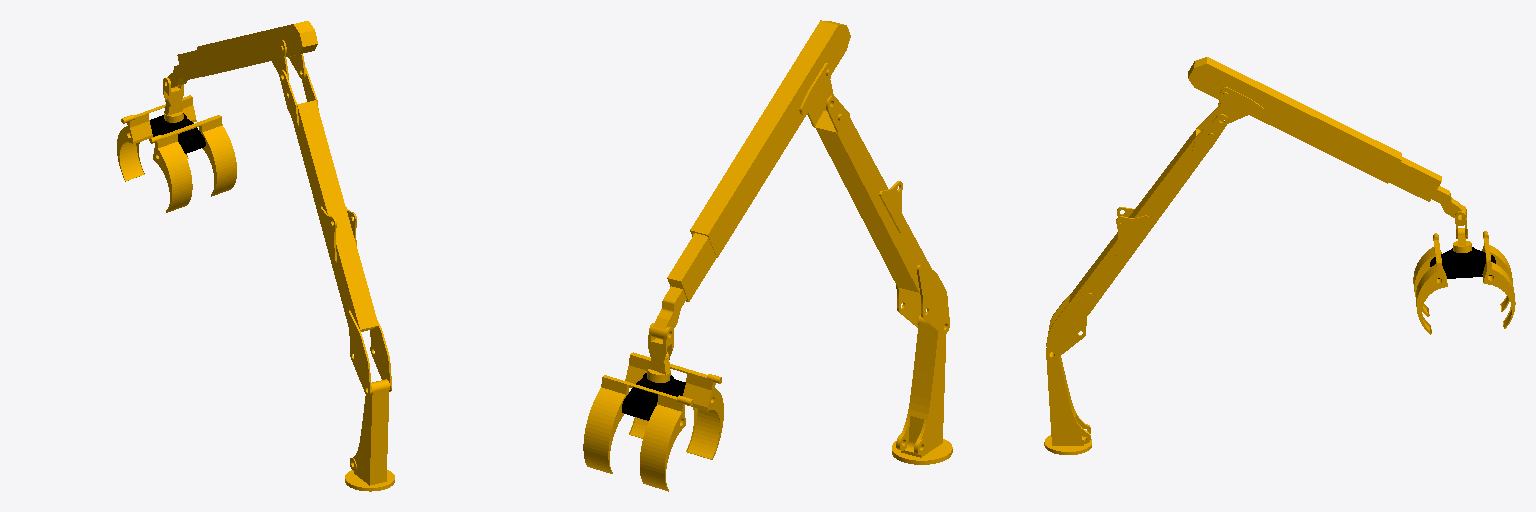
--- What the picture shows (computed from the rendered views, not written in the file) ---
Views: 3 orthographic renders of the robot side by side, from view 1: azimuth 30°, elevation 25°; view 2: azimuth 150°, elevation 25°; view 3: azimuth 270°, elevation 25°.
Model onshape with 18 links and 17 joints (8 revolute, 1 prismatic, 8 fixed), rooted at base_link, posed all joints at 0.
Links seen in each view (by area): view 1: cranearm, extension_arm, cranepillar, grappler_1, grapplel_1, grapplebody, extension, grappler_2_2, grappler_2; view 2: extension_arm, cranearm, cranepillar, grapplel_1, extension, grappler_1, grapplebody, grappler_3, grapplel_2_2, grapplel_2, intermediatehookjnt, grappler_2; view 3: extension_arm, cranearm, cranepillar, extension, grapplebody, grappler_1, grapplel_1.
Boxes of the visible links, bbox=[...] form: cranearm: bbox=[279, 67, 391, 396]; extension_arm: bbox=[197, 21, 317, 79]; cranepillar: bbox=[345, 379, 394, 491]; grappler_1: bbox=[149, 115, 234, 177]; grapplel_1: bbox=[118, 95, 196, 143]; grapplebody: bbox=[150, 113, 205, 153]; extension: bbox=[168, 50, 202, 87]; grappler_2_2: bbox=[208, 154, 236, 182]; grappler_2: bbox=[164, 170, 192, 198]; extension_arm: bbox=[690, 20, 850, 257]; cranearm: bbox=[807, 95, 949, 334]; cranepillar: bbox=[892, 315, 952, 464]; grapplel_1: bbox=[587, 375, 693, 446]; extension: bbox=[652, 233, 715, 339]; grappler_1: bbox=[625, 352, 723, 411]; grapplebody: bbox=[622, 373, 685, 420]; grappler_3: bbox=[686, 425, 721, 459]; grapplel_2_2: bbox=[583, 423, 617, 456]; grapplel_2: bbox=[640, 440, 673, 473]; intermediatehookjnt: bbox=[648, 323, 673, 365]; grappler_2: bbox=[693, 406, 723, 433]; extension_arm: bbox=[1188, 57, 1401, 183]; cranearm: bbox=[1046, 108, 1228, 360]; cranepillar: bbox=[1044, 348, 1091, 454]; extension: bbox=[1389, 157, 1466, 218]; grapplebody: bbox=[1430, 247, 1495, 278]; grappler_1: bbox=[1415, 233, 1447, 294]; grapplel_1: bbox=[1482, 231, 1512, 289].
Bounding box of the posed robot: 0.9602 × 5.11 × 4.63 m (x, y, z).
17 mesh visuals loaded from 14 distinct referenced files (13 binary STL); not drawn: 1 (reference not matched to a file when rendering).

URDF robot description (onshape):
<robot name="onshape">
<link name="base_link">
<visual>
<origin xyz="0 0 0" rpy="0 -0 0" />
<geometry>
<mesh filename="meshes/base_link.stl"/>
</geometry>
<material name="base_link_material">
<color rgba="0.19607843137254901689 0.43921568627450979783 0.078431372549019606755 1.0"/>
</material>
</visual>
<collision>
<origin xyz="0 0 0" rpy="0 -0 0" />
<geometry>
<mesh filename="meshes/base_link.stl"/>
</geometry>
</collision>
<inertial>
<origin xyz="-0.0038912060641234204675 0.94417835578650088912 0.70159558953869916031" rpy="0 0 0"/>
<mass value="1499.9999999999993179" />
<inertia ixx="3977.710599158952391" ixy="2.4359446062355916141"  ixz="-0.23812520616698054643" iyy="879.41162393756735582" iyz="164.77461570684388903" izz="4496.6843394325978807" />
</inertial>
</link>

<link name="cranepillar">
<visual>
<origin xyz="6.9388939039072283776e-18 -1.9749999999999998668 1.8000000000000002665" rpy="3.141592653589793116 1.6940658945086006781e-21 2.516552257085389921e-18" />
<geometry>
<mesh filename="meshes/cranepillar.stl"/>
</geometry>
<material name="cranepillar_material">
<color rgba="0.98039215686274505668 0.71372549019607844922 0.0039215686274509803377 1.0"/>
</material>
</visual>
<collision>
<origin xyz="6.9388939039072283776e-18 -1.9749999999999998668 1.8000000000000002665" rpy="3.141592653589793116 1.6940658945086006781e-21 2.516552257085389921e-18" />
<geometry>
<mesh filename="meshes/cranepillar.stl"/>
</geometry>
</collision>
<inertial>
<origin xyz="6.5177737211082862288e-08 0.069996065189212197666 -0.40871146584034484528" rpy="0 0 0"/>
<mass value="158.26819918446105362" />
<inertia ixx="20.304254714215375088" ixy="3.9605699781677006395e-06"  ixz="-8.1723973261701671507e-07" iyy="19.504224403354090356" iyz="3.0542376148195309327" izz="2.5286420750194498197" />
</inertial>
</link>

<link name="cranearm">
<visual>
<origin xyz="2.1631691341646699378 2.9071014878752601263 0.10714734974687092905" rpy="1.57079632679489678 1.5707963267948961139 0" />
<geometry>
<mesh filename="meshes/cranearm.stl"/>
</geometry>
<material name="cranearm_material">
<color rgba="0.98039215686274505668 0.71372549019607844922 0.0039215686274509803377 1.0"/>
</material>
</visual>
<collision>
<origin xyz="2.1631691341646699378 2.9071014878752601263 0.10714734974687092905" rpy="1.57079632679489678 1.5707963267948961139 0" />
<geometry>
<mesh filename="meshes/cranearm.stl"/>
</geometry>
</collision>
<inertial>
<origin xyz="1.4710758781849475607 -0.83447497357367239612 0.11000015269846499799" rpy="0 0 0"/>
<mass value="171.36007144775499" />
<inertia ixx="31.174403809260475384" ixy="53.72154790670983715"  ixz="-2.3471090249550919692e-06" iyy="103.78227622883770209" iyz="2.968750295156902758e-06" izz="132.11938151457613344" />
</inertial>
</link>

<link name="extension_arm">
<visual>
<origin xyz="-0.088447174187276322854 -5.3839193952782498087 -0.06714734974682075308" rpy="-1.570796326794896558 -1.5707963267948796826 0" />
<geometry>
<mesh filename="meshes/extension_arm.stl"/>
</geometry>
<material name="extension_arm_material">
<color rgba="0.98039215686274505668 0.71372549019607844922 0.0039215686274509803377 1.0"/>
</material>
</visual>
<collision>
<origin xyz="-0.088447174187276322854 -5.3839193952782498087 -0.06714734974682075308" rpy="-1.570796326794896558 -1.5707963267948796826 0" />
<geometry>
<mesh filename="meshes/extension_arm.stl"/>
</geometry>
</collision>
<inertial>
<origin xyz="0.71945517939019365539 0.12523230339912849729 -0.10999999999999975075" rpy="0 0 0"/>
<mass value="132.70502483158344376" />
<inertia ixx="8.0714226307109129266" ixy="18.156198033664058045"  ixz="1.1028622219671950734e-14" iyy="63.582628627999859816" iyz="2.9983655832555437732e-14" izz="70.212133412086018325" />
</inertial>
</link>

<link name="extension">
<visual>
<origin xyz="0.097852650417088363199 5.3847096770111528841 1.5927817167852027502" rpy="1.8759826062349289622 -5.9213930349191567547e-15 1.3417001884508113519e-18" />
<geometry>
<mesh filename="meshes/extension.stl"/>
</geometry>
<material name="extension_material">
<color rgba="0.98039215686274505668 0.71372549019607844922 0.0039215686274509803377 1.0"/>
</material>
</visual>
<collision>
<origin xyz="0.097852650417088363199 5.3847096770111528841 1.5927817167852027502" rpy="1.8759826062349289622 -5.9213930349191567547e-15 1.3417001884508113519e-18" />
<geometry>
<mesh filename="meshes/extension.stl"/>
</geometry>
</collision>
<inertial>
<origin xyz="0.055000000489328113029 -0.11308667092188519343 1.1835917326395066773" rpy="0 0 0"/>
<mass value="74.483829935135759115" />
<inertia ixx="35.990982829721396286" ixy="2.8883683335390858708e-10"  ixz="4.53329415410387902e-09" iyy="35.493371181524160818" iyz="-0.96498947282822733484" izz="0.92591432257179961951" />
</inertial>
</link>

<link name="intermediatehookjnt">
<visual>
<origin xyz="1.1629408158115603911 -1.6924602990154093973 0.059999999999999990841" rpy="-1.570796326794896558 -1.570796326794896558 0" />
<geometry>
<mesh filename="meshes/intermediatehookjnt.stl"/>
</geometry>
<material name="intermediatehookjnt_material">
<color rgba="0.98039215686274505668 0.71372549019607844922 0.0039215686274509803377 1.0"/>
</material>
</visual>
<collision>
<origin xyz="1.1629408158115603911 -1.6924602990154093973 0.059999999999999990841" rpy="-1.570796326794896558 -1.570796326794896558 0" />
<geometry>
<mesh filename="meshes/intermediatehookjnt.stl"/>
</geometry>
</collision>
<inertial>
<origin xyz="7.2130032391370946243e-08 -0.1215916708469393509 0.059999999999999928391" rpy="0 0 0"/>
<mass value="6.6927523972674238806" />
<inertia ixx="0.072021619002840306378" ixy="2.6246446781931340384e-08"  ixz="-3.813379976753245862e-19" iyy="0.032102433616367866132" iyz="-6.769896028265984685e-21" izz="0.063250708421585463692" />
</inertial>
</link>

<link name="grapplehook">
<visual>
<origin xyz="1.1102230246251565404e-16 1.4599999999999995204 1.1229409087543604784" rpy="1.570796326794896558 -1.7347234759768070944e-18 0" />
<geometry>
<mesh filename="meshes/grapplehook.stl"/>
</geometry>
<material name="grapplehook_material">
<color rgba="0.98039215686274505668 0.71372549019607844922 0.0039215686274509803377 1.0"/>
</material>
</visual>
<collision>
<origin xyz="1.1102230246251565404e-16 1.4599999999999995204 1.1229409087543604784" rpy="1.570796326794896558 -1.7347234759768070944e-18 0" />
<geometry>
<mesh filename="meshes/grapplehook.stl"/>
</geometry>
</collision>
<inertial>
<origin xyz="9.6779365295442961279e-17 0.11889435836171992344 -0.039999999999999369393" rpy="0 0 0"/>
<mass value="11.69137300060207707" />
<inertia ixx="0.071283575399172696696" ixy="6.2153568335433644892e-19"  ixz="2.2920506233706871967e-20" iyy="0.044786365951232892657" iyz="0" izz="0.077427737510019634115" />
</inertial>
</link>

<link name="grapplebody">
<visual>
<origin xyz="0.002852650253129418445 -4.2941082490610078537 0.31050192853763469714" rpy="-0.83507352101469434213 8.8123952579621800396e-16 1.7347234759768070944e-18" />
<geometry>
<mesh filename="meshes/grapplebody.stl"/>
</geometry>
<material name="grapplebody_material">
<color rgba="0 0 0 1.0"/>
</material>
</visual>
<collision>
<origin xyz="0.002852650253129418445 -4.2941082490610078537 0.31050192853763469714" rpy="-0.83507352101469434213 8.8123952579621800396e-16 1.7347234759768070944e-18" />
<geometry>
<mesh filename="meshes/grapplebody.stl"/>
</geometry>
</collision>
<inertial>
<origin xyz="-0.0046191934757198547384 -8.4376949871511897072e-15 -0.14258886664155800972" rpy="0 0 0"/>
<mass value="100.00000000000002842" />
<inertia ixx="2.2032827057151145311" ixy="3.0196331546328281092e-14"  ixz="-0.01440316534977603008" iyy="5.1544932520305346557" iyz="-1.5987211554602254182e-14" izz="5.9229805801947446042" />
</inertial>
</link>

<link name="grappler_1">
<visual>
<origin xyz="0.32285265025312614995 3.4005112229779843602 3.4245452734591577126" rpy="-3.1412275799297373347 -4.4495657158805101972e-16 -6.9388939039072283776e-18" />
<geometry>
<mesh filename="meshes/grappler_1.stl"/>
</geometry>
<material name="grappler_1_material">
<color rgba="0.98039215686274505668 0.71372549019607844922 0.0039215686274509803377 1.0"/>
</material>
</visual>
<collision>
<origin xyz="0.32285265025312614995 3.4005112229779843602 3.4245452734591577126" rpy="-3.1412275799297373347 -4.4495657158805101972e-16 -6.9388939039072283776e-18" />
<geometry>
<mesh filename="meshes/grappler_1.stl"/>
</geometry>
</collision>
<inertial>
<origin xyz="-0.03598028436155475962 0.039724540553617675165 0.14108446211637071244" rpy="0 0 0"/>
<mass value="39.999999999999872102" />
<inertia ixx="3.6544012783942796396" ixy="-0.17169040574983288061"  ixz="0.016409580184274151493" iyy="3.552359250722708861" iyz="0.061201795792073895863" izz="0.68809115739437054504" />
</inertial>
</link>

<link name="grappler_2">
<visual>
<origin xyz="0.52178390116212325367 -3.5495452734592136679 3.5464990784749854669" rpy="-1.5704312531348409987 -6.8001160258290838101e-16 -5.6378512969246230568e-18" />
<geometry>
<mesh filename="meshes/grappler_2.stl"/>
</geometry>
<material name="grappler_2_material">
<color rgba="0.98039215686274505668 0.71372549019607844922 0.0039215686274509803377 1.0"/>
</material>
</visual>
<collision>
<origin xyz="0.52178390116212325367 -3.5495452734592136679 3.5464990784749854669" rpy="-1.5704312531348409987 -6.8001160258290838101e-16 -5.6378512969246230568e-18" />
<geometry>
<mesh filename="meshes/grappler_2.stl"/>
</geometry>
</collision>
<inertial>
<origin xyz="-0.03616514622736755058 -2.9753977059954195283e-14 -0.11542357832264553419" rpy="0 0 0"/>
<mass value="0.10000000000000008882" />
<inertia ixx="0.001419938581217723185" ixy="2.9873058722091157995e-17"  ixz="-9.0443344469136782758e-05" iyy="0.0006137732400707944817" iyz="-1.3553347719236458029e-17" izz="0.00098009656545995854984" />
</inertial>
</link>

<link name="grappler_3">
<visual>
<origin xyz="0.56432035077736664164 -3.549545273459199457 3.7964990784749854669" rpy="-1.5704312531348409987 -6.8001160258290818379e-16 -8.2399365108898321577e-18" />
<geometry>
<mesh filename="meshes/grappler_3.stl"/>
</geometry>
<material name="grappler_3_material">
<color rgba="0.98039215686274505668 0.71372549019607844922 0.0039215686274509803377 1.0"/>
</material>
</visual>
<collision>
<origin xyz="0.56432035077736664164 -3.549545273459199457 3.7964990784749854669" rpy="-1.5704312531348409987 -6.8001160258290818379e-16 -8.2399365108898321577e-18" />
<geometry>
<mesh filename="meshes/grappler_3.stl"/>
</geometry>
</collision>
<inertial>
<origin xyz="0.05264441572777567302 -1.7319479184152442031e-14 -0.11903215134654279717" rpy="0 0 0"/>
<mass value="0.10000000000000003331" />
<inertia ixx="0.001110362332617847482" ixy="2.1888813664708815787e-17"  ixz="0.00025300744770991300545" iyy="0.00059669206907971852026" iyz="1.3035704709345673734e-17" izz="0.00082889974619581479384" />
</inertial>
</link>

<joint name="Fastened 2" type="fixed">
<origin xyz="-0.042536449615243610012 -1.7763568394002504647e-14 -0.24999999999999955591" rpy="-1.0533240946131242097e-14 -0 -4.3368086899420995881e-19" />
<parent link="grappler_2" />
<child link="grappler_3" />
<axis xyz="0 0 1"/>
<limit effort="5e5" velocity="20" />
<joint_properties friction="0.0"/>
</joint>

<joint name="Fastened 1" type="fixed">
<origin xyz="-0.19893125090899821394 -0.14598785549699977437 -0.12500000000005534462" rpy="-1.570796326794896558 -4.527628272299409324e-16 -6.8001160258289980215e-16" />
<parent link="grappler_1" />
<child link="grappler_2" />
<axis xyz="0 0 1"/>
<limit effort="5e5" velocity="20" />
<joint_properties friction="0.0"/>
</joint>

<link name="grappler_2_2">
<visual>
<origin xyz="0.52178390116212280958 -3.5495452734592118915 3.5464990784749850228" rpy="-1.5704312531348409987 -6.8695049648681560939e-16 -2.168404344971008868e-18" />
<geometry>
<mesh filename="meshes/grappler_2.stl"/>
</geometry>
<material name="grappler_2_material">
<color rgba="0.98039215686274505668 0.71372549019607844922 0.0039215686274509803377 1.0"/>
</material>
</visual>
<collision>
<origin xyz="0.52178390116212280958 -3.5495452734592118915 3.5464990784749850228" rpy="-1.5704312531348409987 -6.8695049648681560939e-16 -2.168404344971008868e-18" />
<geometry>
<mesh filename="meshes/grappler_2.stl"/>
</geometry>
</collision>
<inertial>
<origin xyz="-0.036165146227367994669 -2.8421709430404007435e-14 -0.11542357832264642237" rpy="0 0 0"/>
<mass value="0.10000000000000008882" />
<inertia ixx="0.001419938581217723185" ixy="2.9866474364415235895e-17"  ixz="-9.0443344469136782758e-05" iyy="0.00061377324007079437328" iyz="-1.3567297293086552287e-17" izz="0.00098009656545995898352" />
</inertial>
</link>

<link name="grappler_3_2">
<visual>
<origin xyz="0.56432035077736708573 -3.549545273459199457 3.7964990784749854669" rpy="-1.5704312531348409987 -6.8001160258290818379e-16 -8.6736173798840335461e-19" />
<geometry>
<mesh filename="meshes/grappler_3.stl"/>
</geometry>
<material name="grappler_3_material">
<color rgba="0.98039215686274505668 0.71372549019607844922 0.0039215686274509803377 1.0"/>
</material>
</visual>
<collision>
<origin xyz="0.56432035077736708573 -3.549545273459199457 3.7964990784749854669" rpy="-1.5704312531348409987 -6.8001160258290818379e-16 -8.6736173798840335461e-19" />
<geometry>
<mesh filename="meshes/grappler_3.stl"/>
</geometry>
</collision>
<inertial>
<origin xyz="0.052644415727776117109 -1.7763568394002507802e-14 -0.11903215134654328289" rpy="0 0 0"/>
<mass value="0.10000000000000003331" />
<inertia ixx="0.001110362332617847482" ixy="2.1894478197543578921e-17"  ixz="0.00025300744770991305966" iyy="0.00059669206907971841184" iyz="1.3017678789436918155e-17" izz="0.00082889974619581501068" />
</inertial>
</link>

<joint name="Fastened 4" type="fixed">
<origin xyz="-0.042536449615243610012 -1.7097434579227410723e-14 -0.24999999999999911182" rpy="-1.0560996521746880477e-14 6.9388939039073608816e-18 4.3368086899421001658e-18" />
<parent link="grappler_2_2" />
<child link="grappler_3_2" />
<axis xyz="0 0 1"/>
<limit effort="5e5" velocity="20" />
<joint_properties friction="0.0"/>
</joint>

<joint name="Fastened 3" type="fixed">
<origin xyz="-0.19893125090893448714 -0.14598785549700021846 0.42499999999986720622" rpy="-1.570796326794896558 -4.5319650809893493696e-16 -6.9388939039071376586e-16" />
<parent link="grappler_1" />
<child link="grappler_2_2" />
<axis xyz="0 0 1"/>
<limit effort="5e5" velocity="20" />
<joint_properties friction="0.0"/>
</joint>

<joint name="Revolute 7" type="revolute">
<origin xyz="-0.28000000000000069278 0.15000000000000096589 -0.17376999257947289834" rpy="1.570796326794896558 -0.0012391264808447304685 -2.3158576183525763738e-16" />
<parent link="grapplebody" />
<child link="grappler_1" />
<axis xyz="0 0 1"/>
<limit effort="5e5" velocity="20" />
<joint_properties friction="0.0"/>
</joint>

<link name="grapplel_1">
<visual>
<origin xyz="-0.23714734974687345925 3.4005112229779794752 3.4295452734591558297" rpy="-3.1412275799297373347 -4.3281350725621341936e-16 0" />
<geometry>
<mesh filename="meshes/grapplel_1.stl"/>
</geometry>
<material name="grapplel_1_material">
<color rgba="0.98039215686274505668 0.71372549019607844922 0.0039215686274509803377 1.0"/>
</material>
</visual>
<collision>
<origin xyz="-0.23714734974687345925 3.4005112229779794752 3.4295452734591558297" rpy="-3.1412275799297373347 -4.3281350725621341936e-16 0" />
<geometry>
<mesh filename="meshes/grapplel_1.stl"/>
</geometry>
</collision>
<inertial>
<origin xyz="0.037443654443467450088 0.034176353076496038264 0.13906290274925314776" rpy="0 0 0"/>
<mass value="40.000000000000113687" />
<inertia ixx="3.5564629020681217675" ixy="0.1738675092252753851"  ixz="-0.02077058182301448272" iyy="3.4587801547719605466" iyz="0.074727970863875670116" izz="0.65771533444672147795" />
</inertial>
</link>

<link name="grapplel_2">
<visual>
<origin xyz="-0.43813173477880873463 -3.5495452734591621535 3.5514990784749884689" rpy="-1.5704312531348407767 2.8449465006019636348e-15 6.505213034913026604e-18" />
<geometry>
<mesh filename="meshes/grapplel_2.stl"/>
</geometry>
<material name="grapplel_2_material">
<color rgba="0.98039215686274505668 0.71372549019607844922 0.0039215686274509803377 1.0"/>
</material>
</visual>
<collision>
<origin xyz="-0.43813173477880873463 -3.5495452734591621535 3.5514990784749884689" rpy="-1.5704312531348407767 2.8449465006019636348e-15 6.505213034913026604e-18" />
<geometry>
<mesh filename="meshes/grapplel_2.stl"/>
</geometry>
</collision>
<inertial>
<origin xyz="0.032775946233430164334 3.3306690738754696213e-14 -0.11517479281854796358" rpy="0 0 0"/>
<mass value="0.10000000000000003331" />
<inertia ixx="0.0013183426952416842266" ixy="-2.9003126106758939638e-17"  ixz="7.7832435127564374264e-05" iyy="0.00058918513895291665505" iyz="5.0093475561060118659e-17" izz="0.00085507882678280573967" />
</inertial>
</link>

<link name="grapplel_3">
<visual>
<origin xyz="-0.47428278211786123464 -3.5495452734591923516 3.8014990784749831398" rpy="-1.5704312531348407767 2.8449465006019636348e-15 -2.6020852139652106416e-18" />
<geometry>
<mesh filename="meshes/grapplel_3.stl"/>
</geometry>
<material name="grapplel_3_material">
<color rgba="0.98039215686274505668 0.71372549019607844922 0.0039215686274509803377 1.0"/>
</material>
</visual>
<collision>
<origin xyz="-0.47428278211786123464 -3.5495452734591923516 3.8014990784749831398" rpy="-1.5704312531348407767 2.8449465006019636348e-15 -2.6020852139652106416e-18" />
<geometry>
<mesh filename="meshes/grapplel_3.stl"/>
</geometry>
</collision>
<inertial>
<origin xyz="-0.04904639767159579139 3.1974423109204508364e-14 -0.11025446657680998408" rpy="0 0 0"/>
<mass value="0.10000000000000001943" />
<inertia ixx="0.00096032338712582793628" ixy="1.2927944913098185628e-16"  ixz="-0.00021878726290633390109" iyy="0.00051582057558843959991" iyz="-3.6037440257407835076e-17" izz="0.00070455456053961540604" />
</inertial>
</link>

<joint name="Fastened 6" type="fixed">
<origin xyz="0.036151047339051611829 2.1704860131421810365e-14 -0.24999999999998889777" rpy="1.0616507672978198257e-14 -6.938893903907322363e-18 5.6378512969246993237e-18" />
<parent link="grapplel_2" />
<child link="grapplel_3" />
<axis xyz="0 0 1"/>
<limit effort="5e5" velocity="20" />
<joint_properties friction="0.0"/>
</joint>

<joint name="Fastened 5" type="fixed">
<origin xyz="0.20098438503194238081 -0.15098785549700011188 -0.11999999999999816369" rpy="-1.570796326794896558 -4.4018608202911100381e-16 2.8518853945058460141e-15" />
<parent link="grapplel_1" />
<child link="grapplel_2" />
<axis xyz="0 0 1"/>
<limit effort="5e5" velocity="20" />
<joint_properties friction="0.0"/>
</joint>

<link name="grapplel_2_2">
<visual>
<origin xyz="-0.43813173477880829054 -3.5495452734591621535 3.551499078474988913" rpy="-1.5704312531348407767 2.8449465006019640293e-15 6.0715321659188256008e-18" />
<geometry>
<mesh filename="meshes/grapplel_2.stl"/>
</geometry>
<material name="grapplel_2_material">
<color rgba="0.98039215686274505668 0.71372549019607844922 0.0039215686274509803377 1.0"/>
</material>
</visual>
<collision>
<origin xyz="-0.43813173477880829054 -3.5495452734591621535 3.551499078474988913" rpy="-1.5704312531348407767 2.8449465006019640293e-15 6.0715321659188256008e-18" />
<geometry>
<mesh filename="meshes/grapplel_2.stl"/>
</geometry>
</collision>
<inertial>
<origin xyz="0.032775946233430552912 3.3750779948604758829e-14 -0.11517479281854800521" rpy="0 0 0"/>
<mass value="0.10000000000000003331" />
<inertia ixx="0.001318342695241683793" ixy="-2.9000879484215245615e-17"  ixz="7.7832435127564374264e-05" iyy="0.00058918513895291687189" iyz="5.0085296399163194321e-17" izz="0.00085507882678280584809" />
</inertial>
</link>

<link name="grapplel_3_2">
<visual>
<origin xyz="-0.47428278211786123464 -3.5495452734591932398 3.8014990784749831398" rpy="-1.5704312531348407767 2.858824288409778486e-15 3.9031278209478167328e-18" />
<geometry>
<mesh filename="meshes/grapplel_3.stl"/>
</geometry>
<material name="grapplel_3_material">
<color rgba="0.98039215686274505668 0.71372549019607844922 0.0039215686274509803377 1.0"/>
</material>
</visual>
<collision>
<origin xyz="-0.47428278211786123464 -3.5495452734591932398 3.8014990784749831398" rpy="-1.5704312531348407767 2.858824288409778486e-15 3.9031278209478167328e-18" />
<geometry>
<mesh filename="meshes/grapplel_3.stl"/>
</geometry>
</collision>
<inertial>
<origin xyz="-0.04904639767159579139 3.1530333899354445748e-14 -0.11025446657680910978" rpy="0 0 0"/>
<mass value="0.10000000000000001943" />
<inertia ixx="0.00096032338712582771944" ixy="1.2928229463228903869e-16"  ixz="-0.00021878726290633381977" iyy="0.00051582057558843970833" iyz="-3.6019281988601071012e-17" izz="0.00070455456053961508078" />
</inertial>
</link>

<joint name="Fastened 8" type="fixed">
<origin xyz="0.036151047339052055918 2.1760371282653068192e-14 -0.24999999999998934186" rpy="1.0644263248593787728e-14 -6.9388939039073146593e-18 8.2399365108899369283e-18" />
<parent link="grapplel_2_2" />
<child link="grapplel_3_2" />
<axis xyz="0 0 1"/>
<limit effort="5e5" velocity="20" />
<joint_properties friction="0.0"/>
</joint>

<joint name="Fastened 7" type="fixed">
<origin xyz="0.20098438503192372906 -0.15098785549700677322 0.41999999999993625766" rpy="-1.570796326794896558 -4.4408920985005926351e-16 2.8518853945058491695e-15" />
<parent link="grapplel_1" />
<child link="grapplel_2_2" />
<axis xyz="0 0 1"/>
<limit effort="5e5" velocity="20" />
<joint_properties friction="0.0"/>
</joint>

<joint name="Revolute 8" type="revolute">
<origin xyz="0.28000000000000024869 0.1499999999999950262 -0.17376999257946490474" rpy="1.570796326794896558 -0.0012392036796337652007 -1.1071881086553791878e-15" />
<parent link="grapplebody" />
<child link="grapplel_1" />
<axis xyz="0 0 1"/>
<limit effort="5e5" velocity="20" />
<joint_properties friction="0.0"/>
</joint>

<joint name="Revolute 6" type="revolute">
<origin xyz="-8.3266726846886740532e-16 0.21499987652526808546 -0.039999999999999591438" rpy="-1.5707963267948972241 -1.4922776003255655564 -3.141592653589698525" />
<parent link="grapplehook" />
<child link="grapplebody" />
<axis xyz="0 0 1"/>
<limit effort="5e5" velocity="20" />
<joint_properties friction="0.0"/>
</joint>

<joint name="Revolute 5" type="revolute">
<origin xyz="0.039999907057202133132 -0.23246029901540588014 0.059999999999999859002" rpy="1.5707963267948958919 -1.4888182497545214833 1.5707963267948010788" />
<parent link="intermediatehookjnt" />
<child link="grapplehook" />
<axis xyz="0 0 1"/>
<limit effort="5e5" velocity="20" />
<joint_properties friction="0.0"/>
</joint>

<joint name="Revolute 4" type="revolute">
<origin xyz="-0.0049999998361772921007 -0.00046421498847237785412 2.3755713282784647333" rpy="-1.5707963267948956698 -1.0345551331654925242 -1.5707963267949169861" />
<parent link="extension" />
<child link="intermediatehookjnt" />
<axis xyz="0 0 1"/>
<limit effort="5e5" velocity="20" />
<joint_properties friction="0.0"/>
</joint>

<joint name="Slider 1" type="prismatic">
<origin xyz="0.48742141322008514237 0.064525742858752899167 -0.18000000000000238032" rpy="2.836406374149756271 -1.5707963267948803487 0" />
<parent link="extension_arm" />
<child link="extension" />
<axis xyz="0 0 1"/>
<limit effort="1" velocity="20" lower="-1.5" upper="0"/>
<joint_properties friction="0.0"/>
</joint>

<joint name="Revolute 3" type="revolute">
<origin xyz="2.9692039480166640963 -1.5997177007333398535 4.9960036108132044319e-16" rpy="3.1415926535897922278 2.3450022441440946277e-15 0.68296337307737620126" />
<parent link="cranearm" />
<child link="extension_arm" />
<axis xyz="0 0 1"/>
<limit effort="5e5" velocity="20" />
<joint_properties friction="0.0"/>
</joint>

<joint name="Revolute 2" type="revolute">
<origin xyz="0.11000000000000004219 0.17499999999999960032 -1.1000000000000025313" rpy="1.570796326794896558 0.4983570351858245262 -1.5707963267948956698" />
<parent link="cranepillar" />
<child link="cranearm" />
<axis xyz="0 0 1"/>
<limit effort="5e5" velocity="20" />
<joint_properties friction="0.0"/>
</joint>

<joint name="Revolute 1" type="revolute">
<origin xyz="-0.0028526502531802042095 -1.9808771680306498375 1.7659041313870393886" rpy="3.141227727442737816 -1.0377112517032391085e-05 -0.028428536727887490643" />
<parent link="base_link" />
<child link="cranepillar" />
<axis xyz="0 0 1"/>
<limit effort="5e5" velocity="20" />
<joint_properties friction="0.0"/>
</joint>


</robot>
